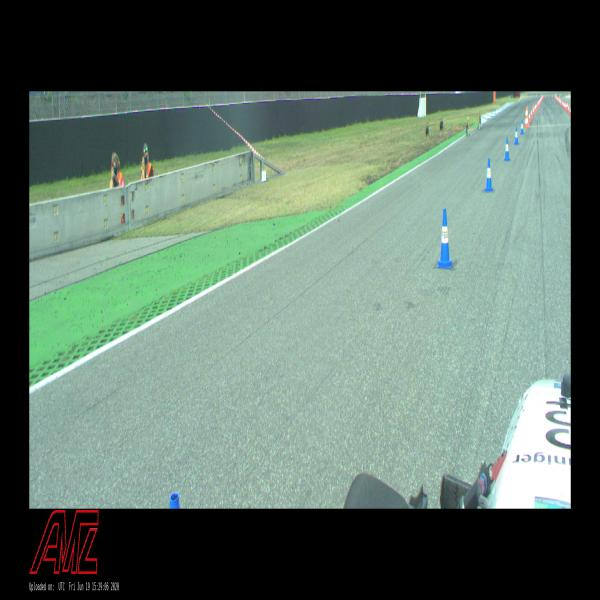blue_cone: (437, 209, 453, 268), (485, 158, 493, 192), (504, 138, 510, 161), (514, 127, 519, 145), (520, 120, 524, 134)
large_orange_cone: (524, 107, 528, 127), (527, 106, 529, 127)
orange_cone: (529, 111, 531, 122), (569, 106, 571, 116), (531, 108, 533, 118), (568, 104, 570, 113)
yellow_cone: (466, 116, 469, 127)
